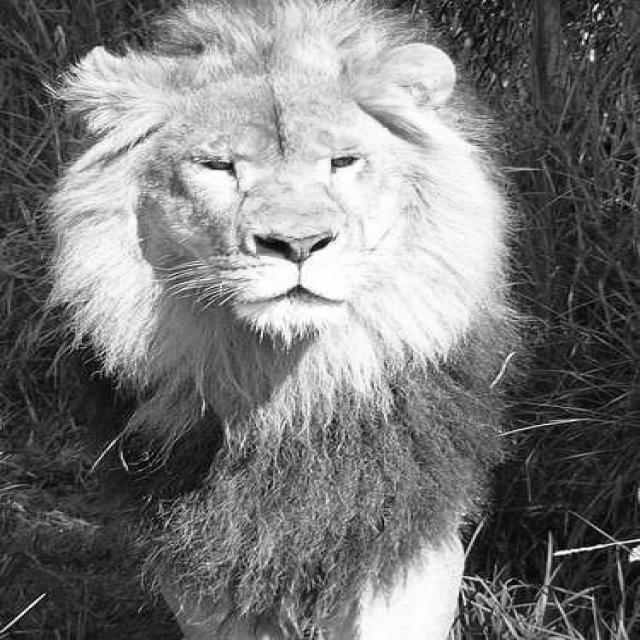Lion: (99, 31, 522, 559)
